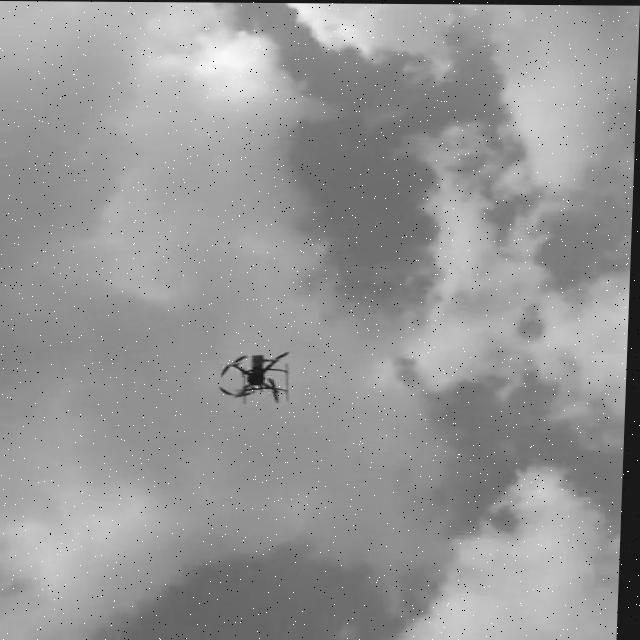drone: (210, 347, 294, 404)
